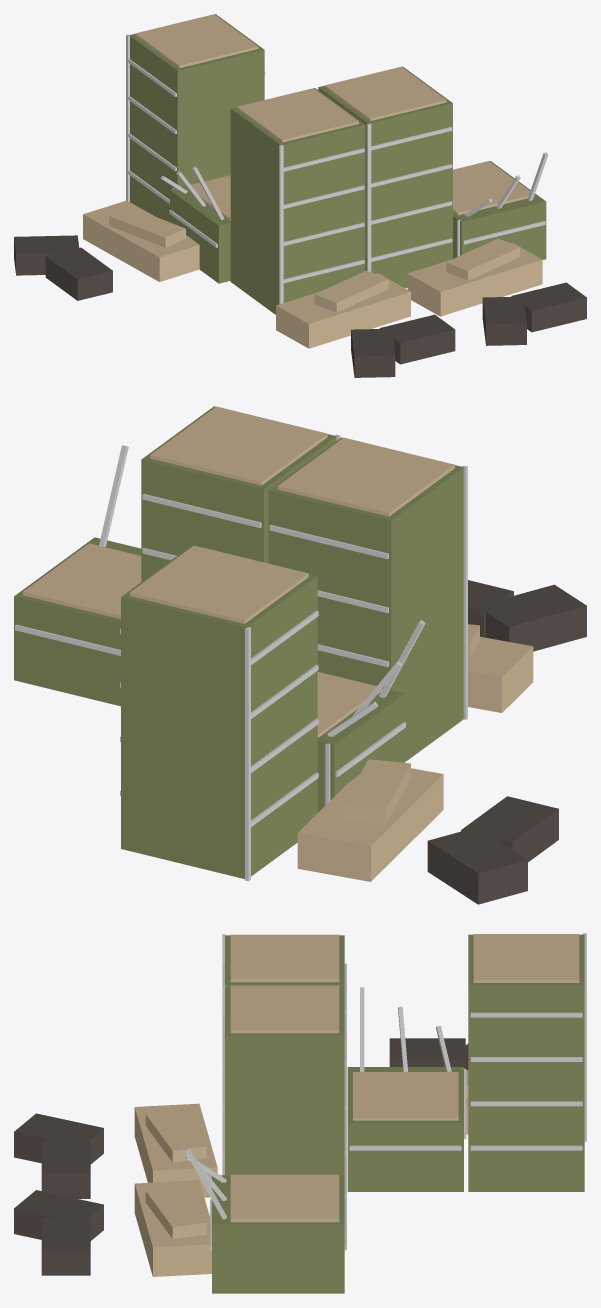
File: SM_HescoEsquina_v2_Escalonado_e1_Danado_LOD0.fbx
The picture shows the model from 3 angles, top to bottom: view 1: azimuth 30°, elevation 25°; view 2: azimuth 150°, elevation 25°; view 3: azimuth 270°, elevation 25°; orthographic projection. The views are drawn at different scales.
Parts seen in each view (by area): view 1: SM_hesco_piezas_v9_LOD0; view 2: SM_hesco_piezas_v9_LOD0; view 3: SM_hesco_piezas_v9_LOD0.
Part boxes in pixels (box(x1,y1,x2,y2)): SM_hesco_piezas_v9_LOD0: box(14, 14, 586, 377); SM_hesco_piezas_v9_LOD0: box(14, 406, 586, 904); SM_hesco_piezas_v9_LOD0: box(14, 933, 586, 1293).
Bounding box in the file's own units: 5.25 × 2.13 × 5.27.
